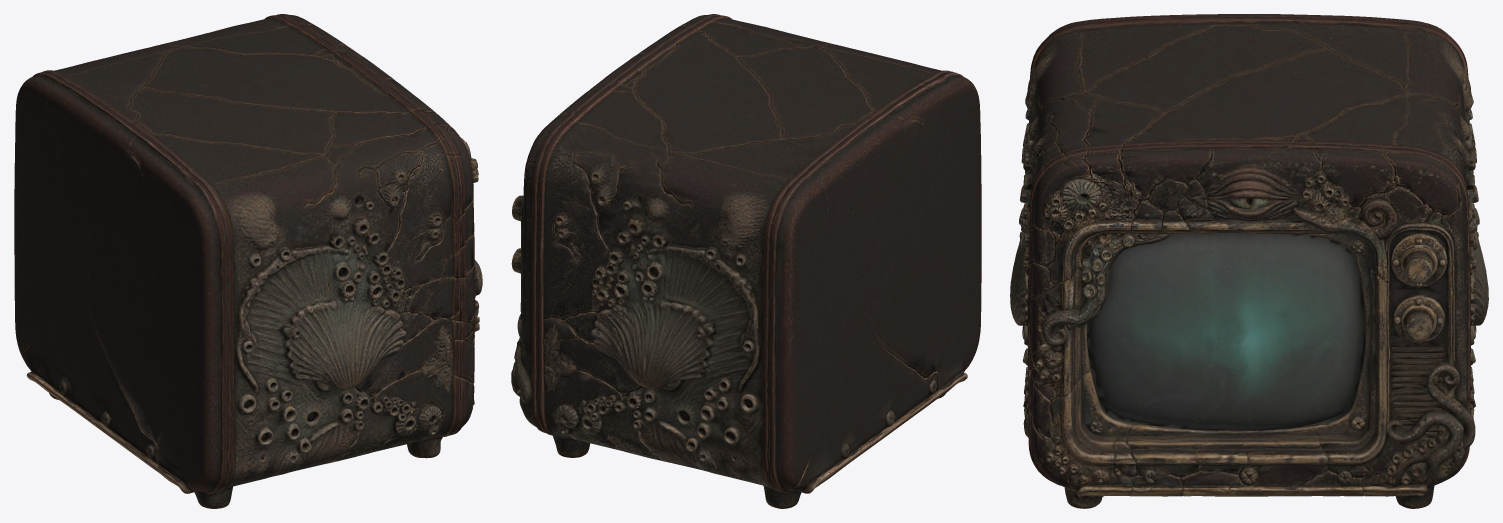
Rendered from vintage-television-optimized.glb.
3 renders of one model, left to right at view 1: azimuth 30°, elevation 25°; view 2: azimuth 150°, elevation 25°; view 3: azimuth 270°, elevation 25°, orthographic. The views are drawn at different scales.
Parts seen in each view (by area): view 1: tripo_node_6709b72a-d719-4ce0-9167-9b11cfe32c68; view 2: tripo_node_6709b72a-d719-4ce0-9167-9b11cfe32c68; view 3: tripo_node_6709b72a-d719-4ce0-9167-9b11cfe32c68.
Boxes of the visible parts, <box> form: tripo_node_6709b72a-d719-4ce0-9167-9b11cfe32c68: <box>14,14,482,508</box>; tripo_node_6709b72a-d719-4ce0-9167-9b11cfe32c68: <box>511,14,981,508</box>; tripo_node_6709b72a-d719-4ce0-9167-9b11cfe32c68: <box>1010,14,1488,508</box>.
Size of the model in its own units: 0.7843 by 0.8271 by 0.9795.
Materials: 1 (1 with a texture image).
